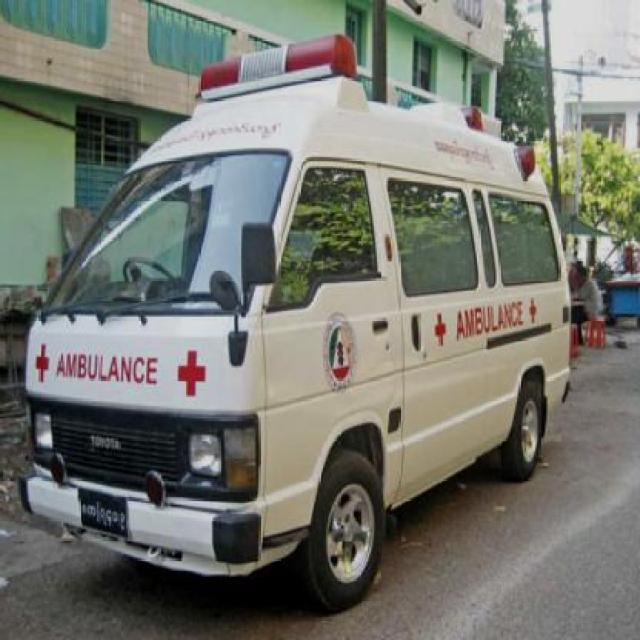emergency: (19, 32, 574, 612)
